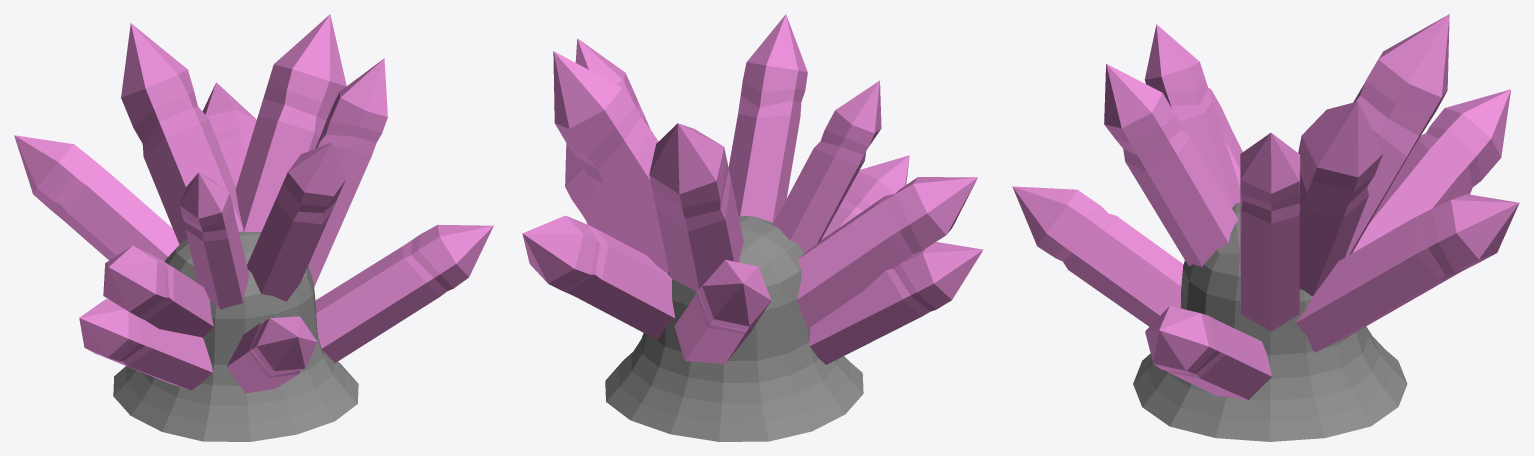
Rendered from crystal.glb.
The picture shows the model from 3 angles, left to right: view 1: azimuth 30°, elevation 25°; view 2: azimuth 150°, elevation 25°; view 3: azimuth 270°, elevation 25°; orthographic projection. The views are drawn at different scales.
Visible parts, largest first — view 1: Mineral; view 2: Mineral; view 3: Mineral.
Boxes of the visible parts, x1,y1,x2,y2 form: Mineral: (14, 14, 493, 441); Mineral: (522, 14, 983, 441); Mineral: (1012, 14, 1519, 441).
Size of the model in its own units: 0.5876 by 0.4367 by 0.5644.
